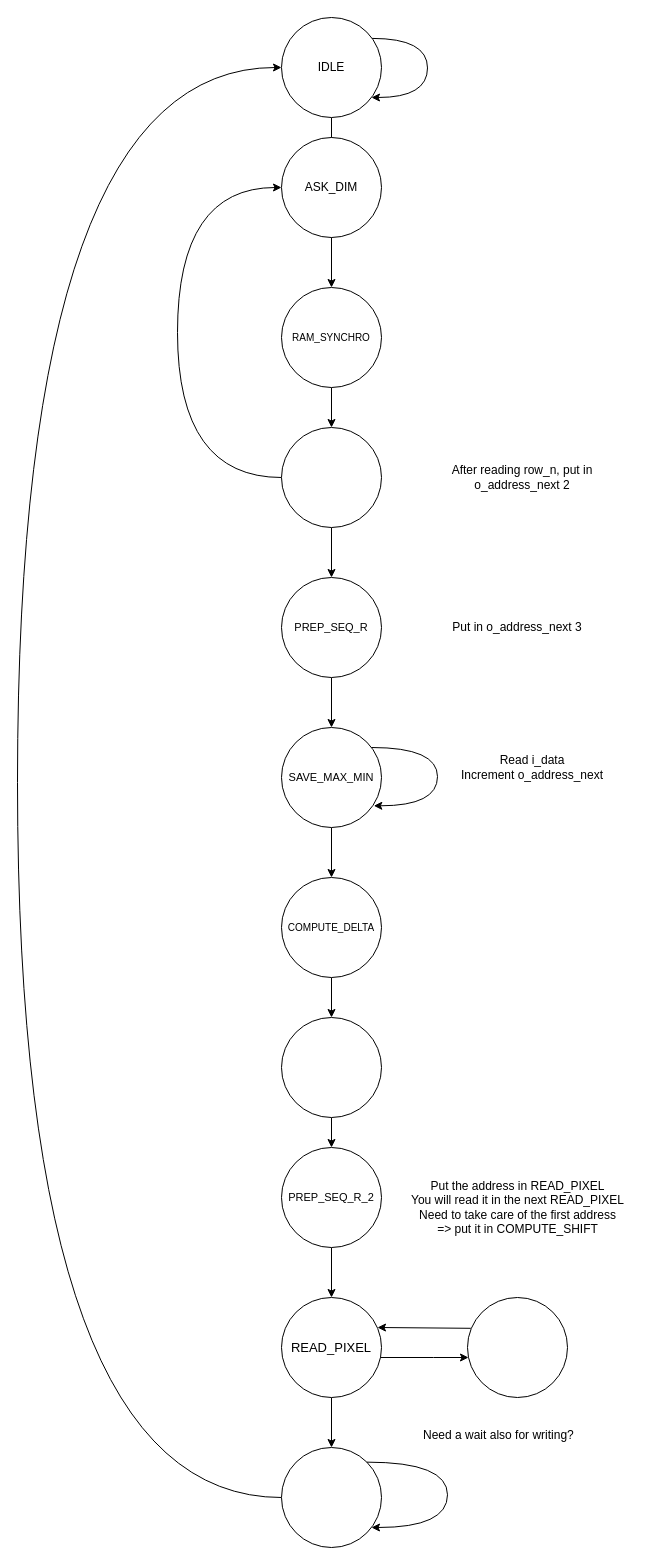
The diagram is 650 pixels wide and 1565 high, and some of its shapes have lost their labels. Here are the shapes that lost their labels. From the top down, the box of each, then its label:
(280, 426, 382, 528): READ_DIM
(280, 1016, 382, 1118): COMPUTE_SHIFT
(466, 1296, 568, 1398): EQUALIZE_AND_WRITE
(280, 1446, 382, 1548): DONE
